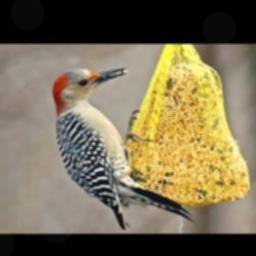Woodpecker: (33, 61, 201, 228)
